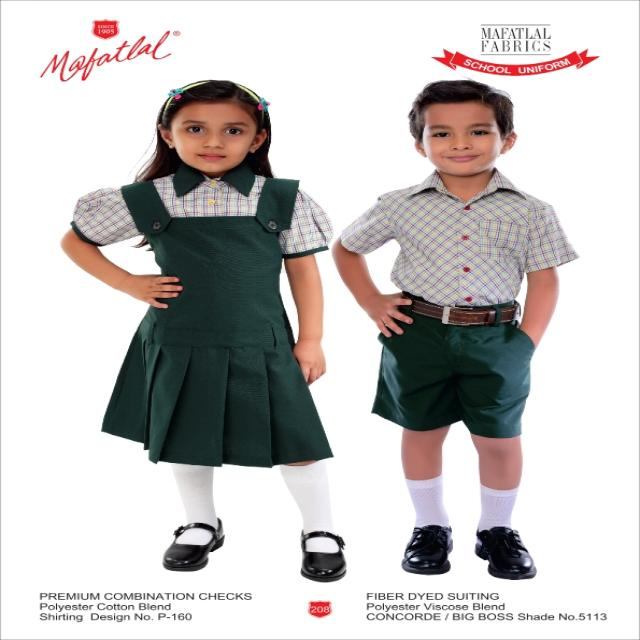child: (47, 74, 353, 584), (327, 77, 591, 588)
